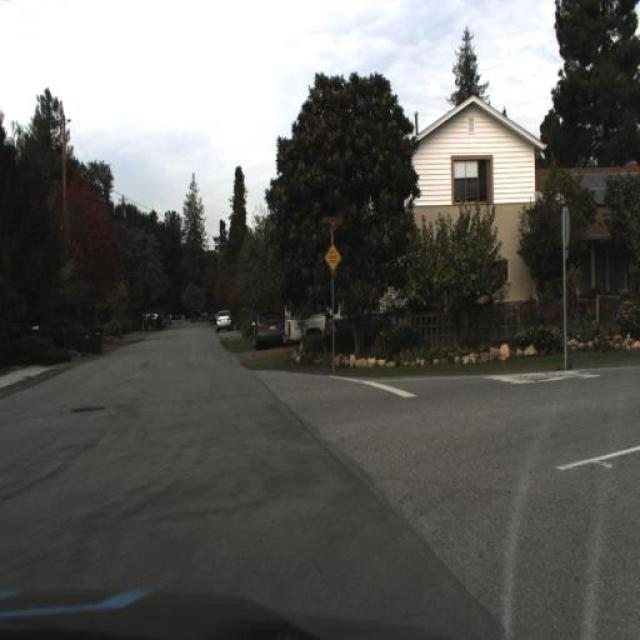car: (284, 304, 364, 354), (248, 307, 284, 355), (251, 308, 284, 348), (214, 304, 231, 330), (215, 309, 233, 332)
